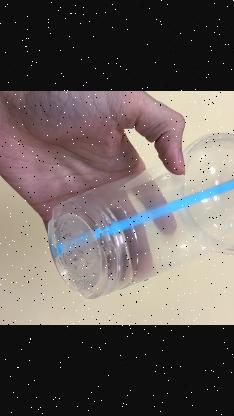Others: (46, 134, 234, 302)
